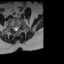CCS_normal: (15, 25, 16, 32)
LFS_normal: (18, 23, 19, 29)
LLS_normal: (16, 24, 18, 31)
RFS_normal: (12, 25, 13, 31)
RLS_normal: (13, 25, 15, 31)
